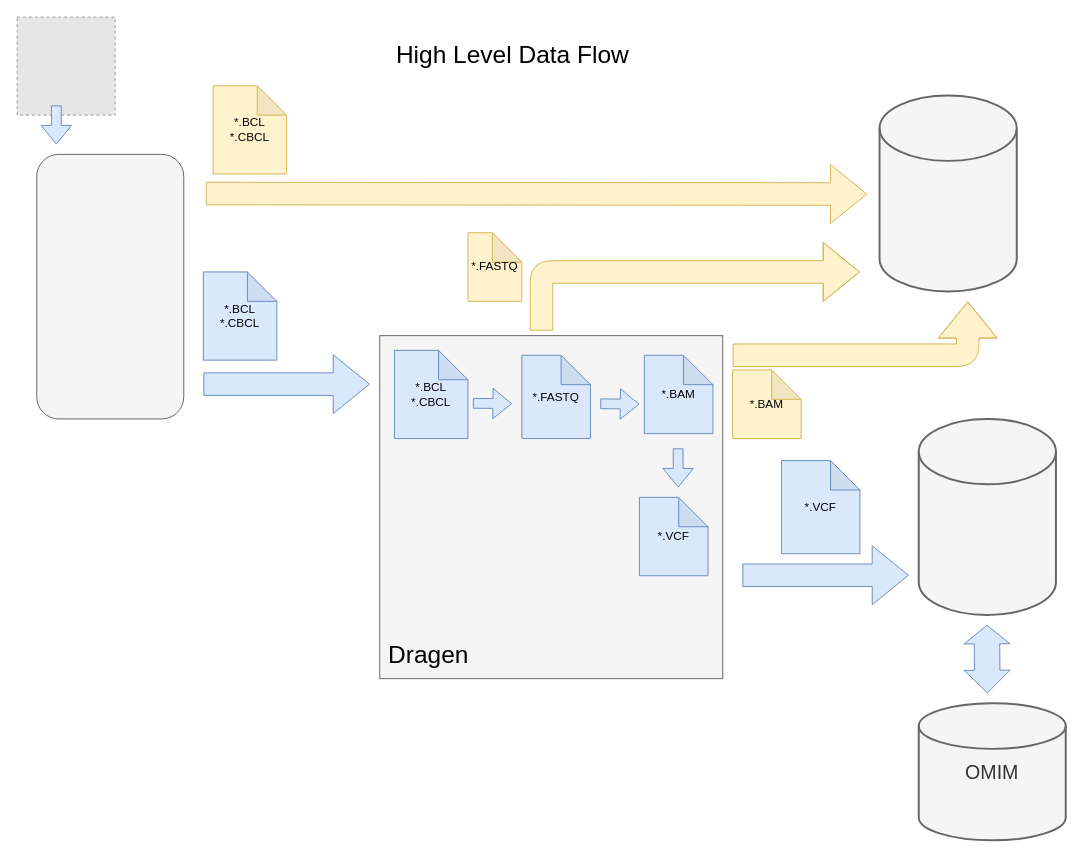
Image size: 1084x858. Some labels were removed from this diagram. Grey dashed boxes stand in for pictures. Each missing label, with the box of its shape:
Hot Storage: (917, 417, 1056, 615)
Illumina NovaSeq 6000: (36, 153, 184, 419)
Long Term Storage: (878, 94, 1017, 292)
